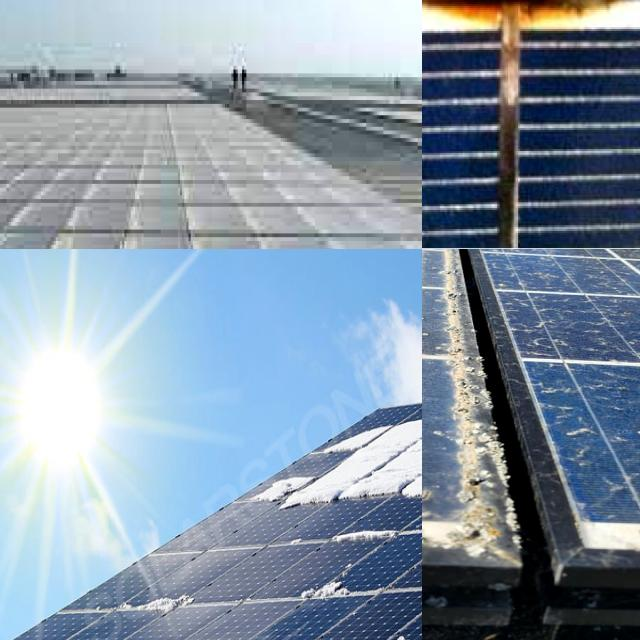dust: (422, 347, 557, 515), (534, 348, 640, 517), (504, 249, 640, 341), (422, 249, 519, 336), (422, 249, 462, 339), (422, 249, 570, 269)
panel: (330, 428, 422, 516), (286, 538, 350, 628), (104, 572, 196, 632), (316, 524, 406, 567), (265, 464, 315, 516)
shadow: (422, 0, 640, 202)
